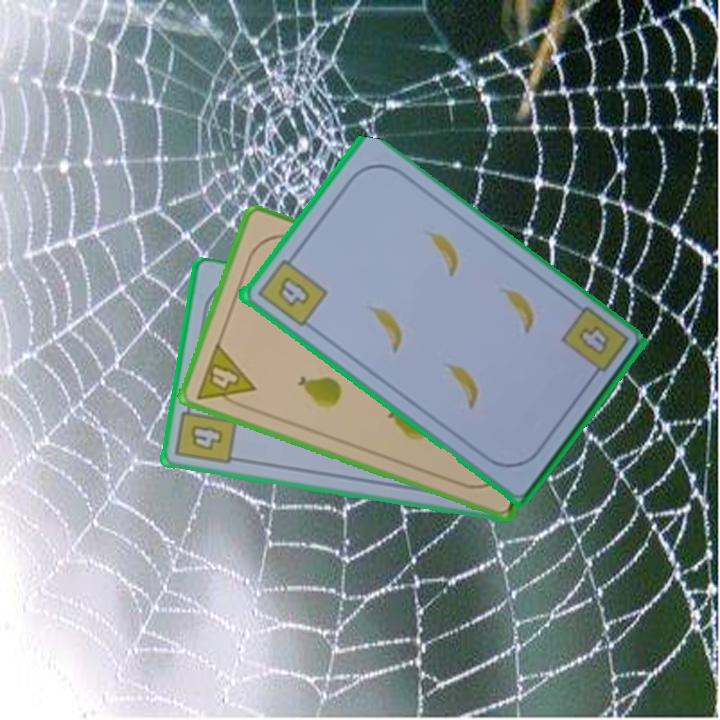4b: (253, 249, 330, 330), (172, 397, 240, 468), (574, 322, 612, 359)
4p: (193, 339, 258, 413)
